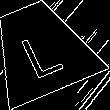L_NW: (14, 20, 67, 78)
